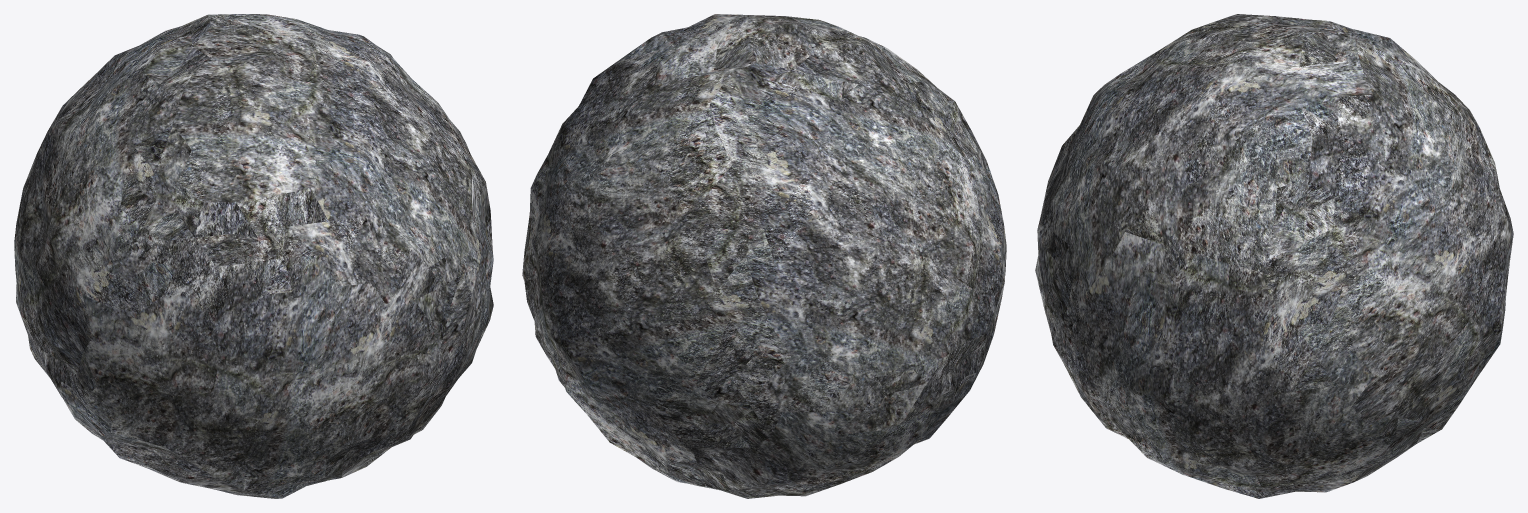
The model's file is rock.obj.
3 views of the same model, side by side, from view 1: azimuth 30°, elevation 25°; view 2: azimuth 150°, elevation 25°; view 3: azimuth 270°, elevation 25° (orthographic).
Parts seen in each view (by area): view 1: Icosphere_Icosphere.002; view 2: Icosphere_Icosphere.002; view 3: Icosphere_Icosphere.002.
Part boxes in pixels (bbox=[...]): Icosphere_Icosphere.002: bbox=[14, 14, 493, 498]; Icosphere_Icosphere.002: bbox=[522, 14, 1006, 498]; Icosphere_Icosphere.002: bbox=[1035, 14, 1513, 498].
Bounding box in the file's own units: 1.02 × 1.01 × 1.
